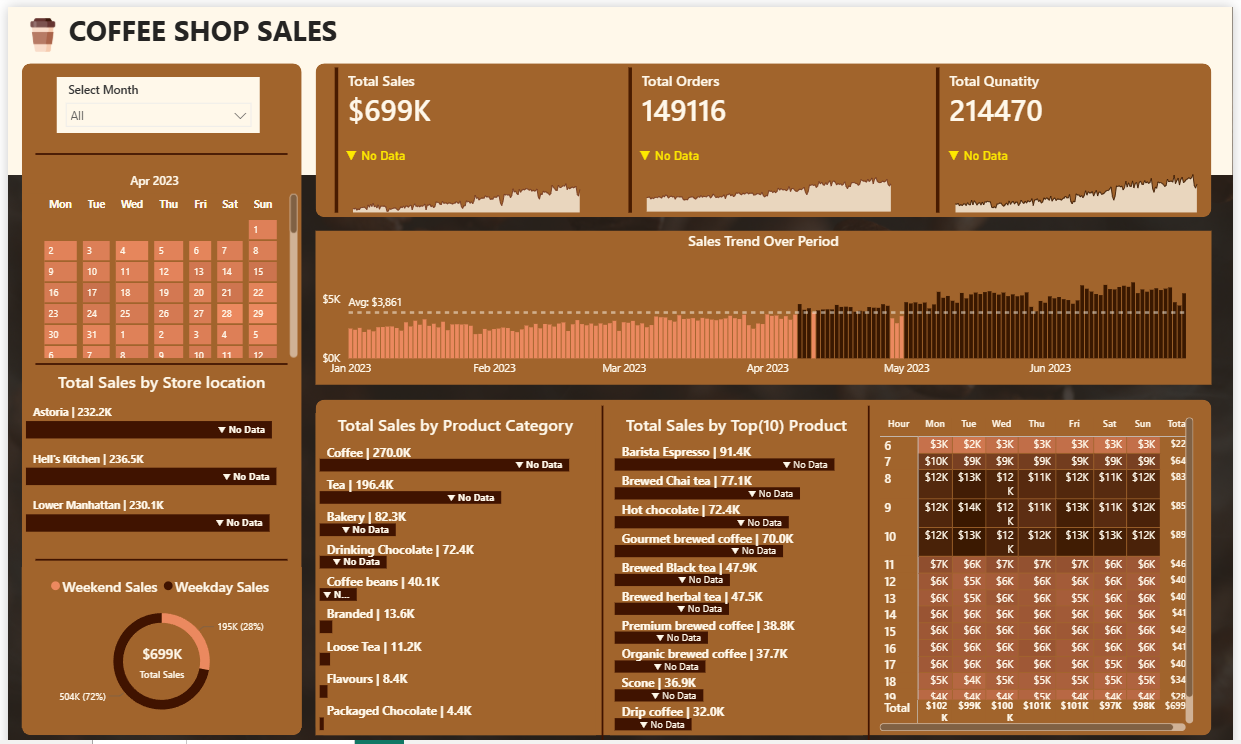

What the dashboard file says about the page in this screenshot:
{"tool":"powerbi","page":{"name":"Page 1","canvas":[1400,850],"ordinal":0},"visuals":[{"type":"shape","box":[-8,0,1408,192],"z":0},{"type":"shape","box":[16,64,320,768],"z":1000},{"type":"shape","box":[352,64,1024,176],"z":2000},{"type":"textbox","box":[64,0,336,64],"z":3000},{"type":"image","box":[16,0,48,64],"z":4000},{"type":"slicer","fields":{"Values":["Date Table.Month & Year"]},"box":[56,80,232,64],"z":5000},{"type":"group","id":"g1","title":"Group 1","box":[368,64,300,176],"z":6000},{"type":"cardVisual","fields":{"Data":["Measures Table.Total Sales"]},"box":[368,64,284.2,176],"z":6000,"group":"g3"},{"type":"cardVisual","fields":{"Data":["Measures Table.Total Transactions"]},"box":[704,64,304,176],"z":6000,"group":"g2"},{"type":"cardVisual","fields":{"Data":["Measures Table.Total Qunatity"]},"box":[1056,64,300.9,176],"z":6000,"group":"g4"},{"type":"group","id":"g2","title":"Group 2","box":[704,64,320,176],"z":7000},{"type":"lineChart","fields":{"Y":["Measures Table.Total Sales"],"Category":["Date Table.Date Hierarchy.Date"]},"box":[383.8,160,284.2,80],"z":7000,"group":"g3"},{"type":"lineChart","fields":{"Category":["Date Table.Date Hierarchy.Date"],"Y":["Measures Table.Total Orders"]},"box":[720,160,304,80],"z":7000,"group":"g2"},{"type":"lineChart","fields":{"Category":["Date Table.Date Hierarchy.Date"],"Y":["Measures Table.Total Qunatity"]},"box":[1072.7,160,300.9,80],"z":7000,"group":"g4"},{"type":"group","id":"g3","title":"Group 2","box":[368,64,300,176],"z":7002,"group":"g1"},{"type":"group","id":"g4","title":"Group 2","box":[1056,64,288,192],"z":8000},{"type":"donutChart","fields":{"Y":["Measures Table.Weekend Sales","Measures Table.Weekday Sales"]},"box":[16,640,320,184],"z":9000},{"type":"card","fields":{"Values":["Min(Date Table.Month & Year)"]},"box":[112,192,112,16],"z":10000},{"type":"shape","box":[32,400,288,16],"z":11000},{"type":"shape","box":[32,160,288,16],"z":12000},{"type":"shape","box":[32,616,288,32],"z":13000},{"type":"card","fields":{"Values":["Measures Table.Total Sales"]},"box":[144,720,64,56],"z":14000},{"type":"pivotTable","fields":{"Columns":["Date Table.Day Name"],"Values":["Min(Date Table.Day No)"],"Rows":["Date Table.Week Number"]},"box":[16,208,320,192],"z":15000},{"type":"clusteredBarChart","title":"Total Sales by Store location","fields":{"Category":["Coffee Shop Sales.store_location"],"Y":["Measures Table.Place Holder","Measures Table.Total Sales"]},"box":[16,416,320,192],"z":16000},{"type":"columnChart","title":"Sales Trend Over Period","fields":{"Y":["Measures Table.Total Sales"],"Category":["Coffee Shop Sales.transaction_date"]},"box":[352,256,1024,176],"z":17000},{"type":"shape","box":[352,448,1024,384],"z":18000},{"type":"clusteredBarChart","title":"Total Sales by Product Category","fields":{"Category":["Coffee Shop Sales.product_category"],"Y":["Measures Table.Place Holder","Measures Table.Total Sales"]},"box":[352,464,320,368],"z":19000},{"type":"shape","box":[672,456,16,384],"z":20000},{"type":"clusteredBarChart","title":"Total Sales by Top(10) Product ","fields":{"Category":["Coffee Shop Sales.product_type"],"Y":["Measures Table.Place Holder","Measures Table.Total Sales"]},"box":[688,464,288,368],"z":21000},{"type":"shape","box":[976,456,16,384],"z":22000},{"type":"pivotTable","fields":{"Rows":["Coffee Shop Sales.Transaction Hour"],"Values":["Measures Table.Total Sales"],"Columns":["Date Table.Day Name"]},"box":[992,464,368,368],"z":23000}]}

Visuals, with their boxes in screenshot pixels (x1, y1, x2, y2), scaled from the page's 1400x850 canvas onto the 1241x744 screenshot:
shape: crop(0, 0, 1240, 168)
shape: crop(14, 56, 298, 728)
shape: crop(312, 56, 1220, 210)
textbox: crop(57, 0, 355, 56)
image: crop(14, 0, 57, 56)
slicer - Date Table.Month & Year: crop(50, 70, 255, 126)
"Group 1" group: crop(326, 56, 592, 210)
cardVisual - Measures Table.Total Sales: crop(326, 56, 578, 210)
cardVisual - Measures Table.Total Transactions: crop(624, 56, 894, 210)
cardVisual - Measures Table.Total Qunatity: crop(936, 56, 1203, 210)
"Group 2" group: crop(624, 56, 908, 210)
lineChart - Measures Table.Total Sales x Date Table.Date Hierarchy.Date: crop(340, 140, 592, 210)
lineChart - Date Table.Date Hierarchy.Date x Measures Table.Total Orders: crop(638, 140, 908, 210)
lineChart - Date Table.Date Hierarchy.Date x Measures Table.Total Qunatity: crop(951, 140, 1218, 210)
"Group 2" group: crop(326, 56, 592, 210)
"Group 2" group: crop(936, 56, 1191, 224)
donutChart - Measures Table.Weekend Sales x Measures Table.Weekday Sales: crop(14, 560, 298, 721)
card - Min(Date Table.Month & Year): crop(99, 168, 199, 182)
shape: crop(28, 350, 284, 364)
shape: crop(28, 140, 284, 154)
shape: crop(28, 539, 284, 567)
card - Measures Table.Total Sales: crop(128, 630, 184, 679)
pivotTable - Date Table.Day Name x Min(Date Table.Day No): crop(14, 182, 298, 350)
"Total Sales by Store location" clusteredBarChart: crop(14, 364, 298, 532)
"Sales Trend Over Period" columnChart: crop(312, 224, 1220, 378)
shape: crop(312, 392, 1220, 728)
"Total Sales by Product Category" clusteredBarChart: crop(312, 406, 596, 728)
shape: crop(596, 399, 610, 735)
"Total Sales by Top(10) Product " clusteredBarChart: crop(610, 406, 865, 728)
shape: crop(865, 399, 879, 735)
pivotTable - Coffee Shop Sales.Transaction Hour x Measures Table.Total Sales: crop(879, 406, 1206, 728)
